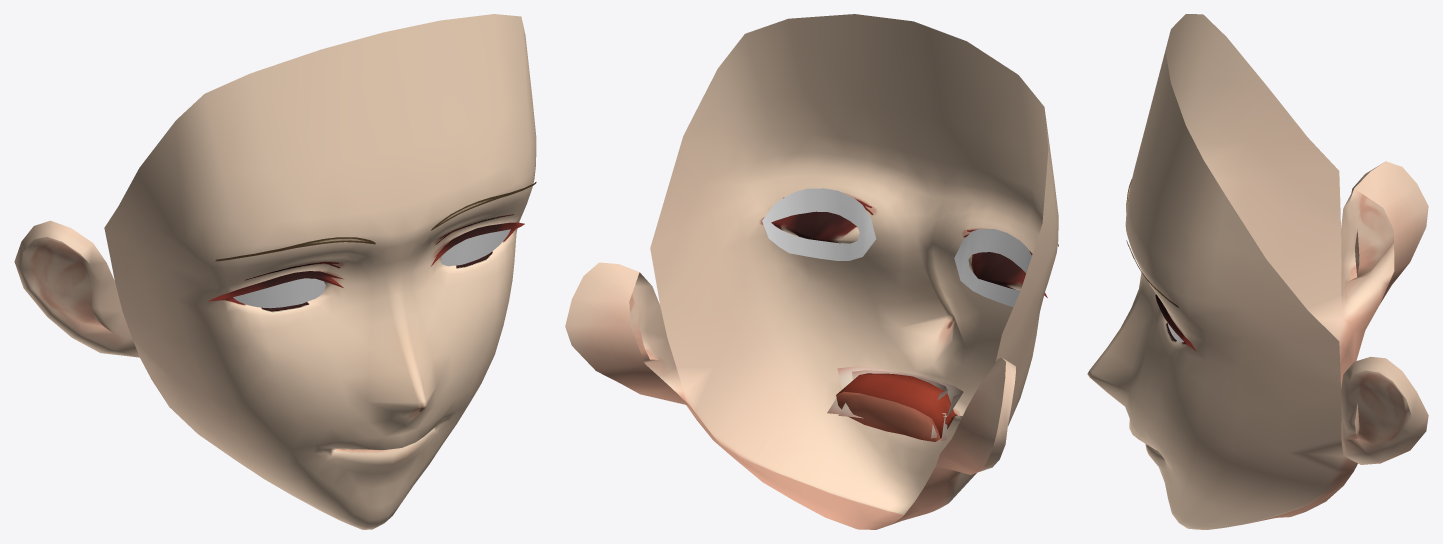
File: Eichi.fbx
3 renders of one model, left to right at view 1: azimuth 30°, elevation 25°; view 2: azimuth 150°, elevation 25°; view 3: azimuth 270°, elevation 25°, orthographic. The views are drawn at different scales.
Visible parts, largest first — view 1: M_Head, M_Eye_B_Def, M_Mth_B_Def, M_PupALL_R_A_Def, M_PupALL_L_A_Def, M_Brw_B_Def; view 2: M_Head, M_Eye_B_Def, M_Mth_B_Def, M_PupALL_L_A_Def, M_PupALL_R_A_Def; view 3: M_Head, M_Mth_B_Def, M_Eye_B_Def.
Part boxes in pixels (x1,y1,x2,y2): M_Head: (14, 14, 536, 407); M_Eye_B_Def: (182, 138, 536, 411); M_Mth_B_Def: (140, 355, 494, 529); M_PupALL_R_A_Def: (233, 278, 325, 308); M_PupALL_L_A_Def: (441, 229, 510, 266); M_Brw_B_Def: (215, 182, 536, 261); M_Head: (565, 14, 1058, 474); M_Eye_B_Def: (724, 134, 1058, 362); M_Mth_B_Def: (683, 314, 1019, 529); M_PupALL_L_A_Def: (762, 188, 875, 260); M_PupALL_R_A_Def: (954, 228, 1031, 307); M_Head: (1129, 14, 1428, 464); M_Mth_B_Def: (1087, 319, 1364, 529); M_Eye_B_Def: (1090, 118, 1212, 444).
Bounding box in the file's own units: 0.1645 × 0.172 × 0.1119.
Materials: 5 (3 with a texture image).
